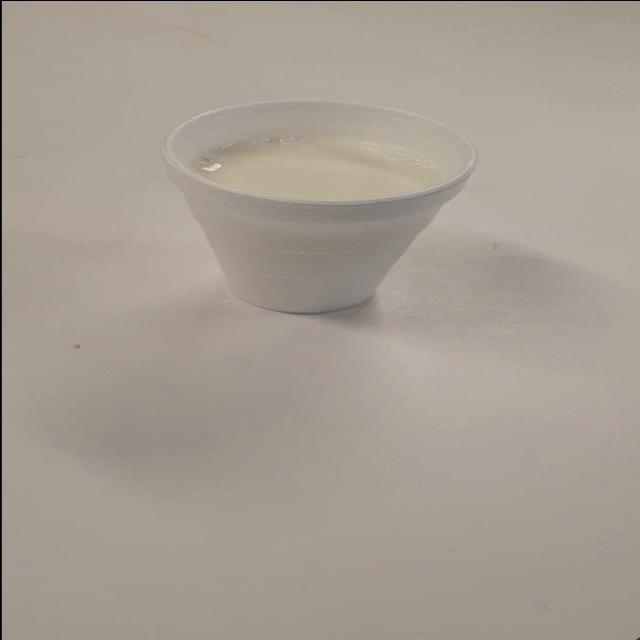Milk: (146, 86, 490, 342)
